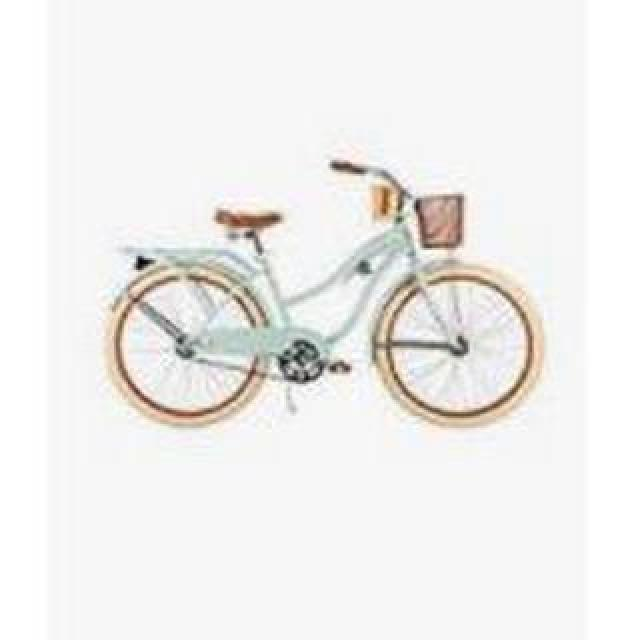Emergency Vehicles-Bike: (104, 162, 548, 446)
Person: (109, 160, 539, 434)
